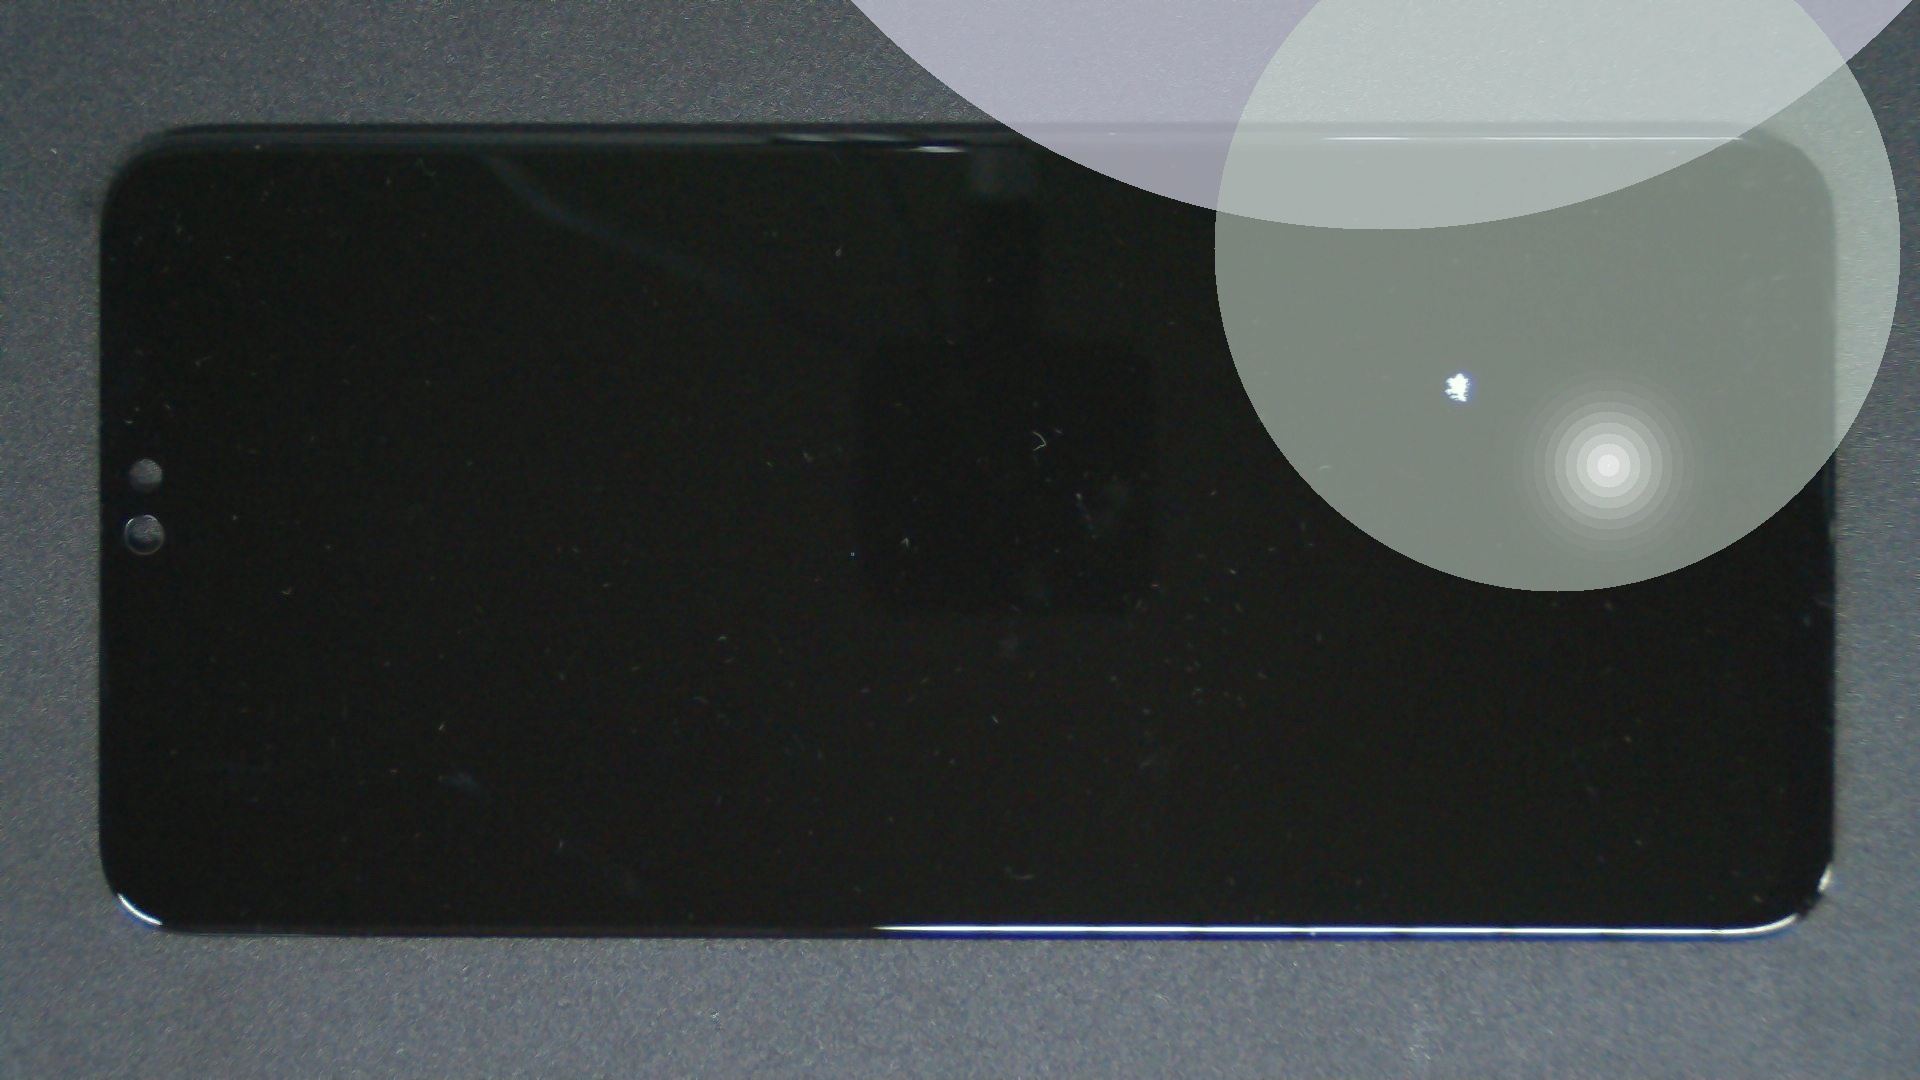oil: (728, 185, 1920, 559)
